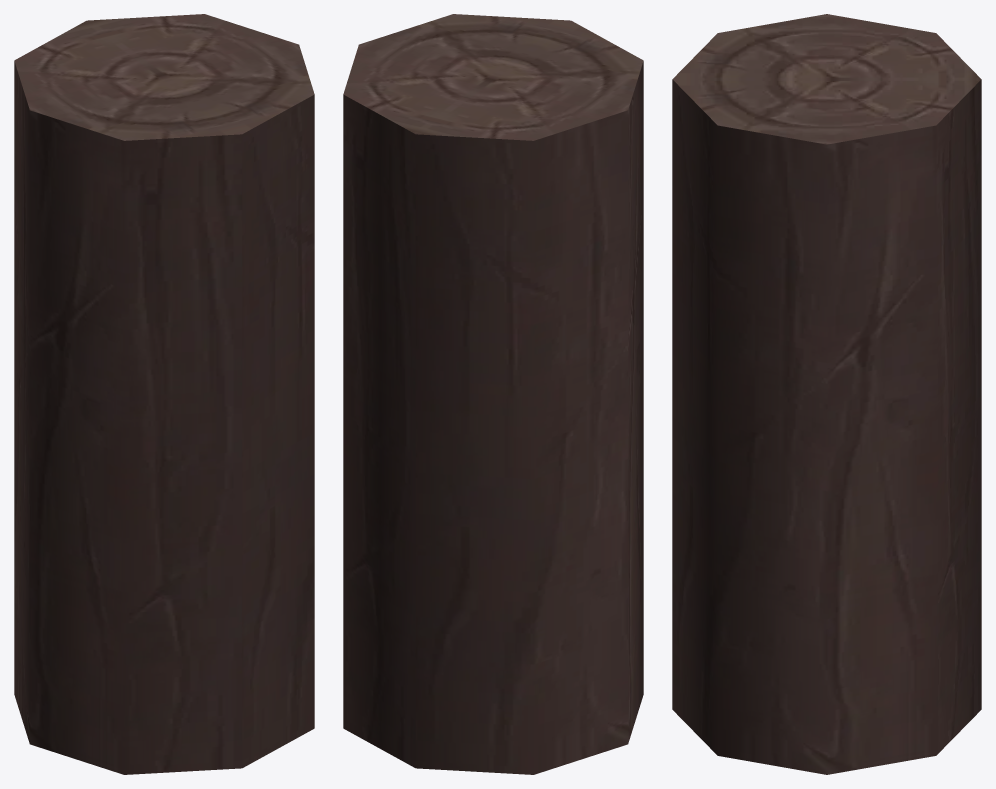
3 renders of one model, left to right at view 1: azimuth 30°, elevation 25°; view 2: azimuth 150°, elevation 25°; view 3: azimuth 270°, elevation 25°, orthographic.
Bounding box in the file's own units: 0.4444 × 1 × 0.4444.
1 material, 1 textured.
